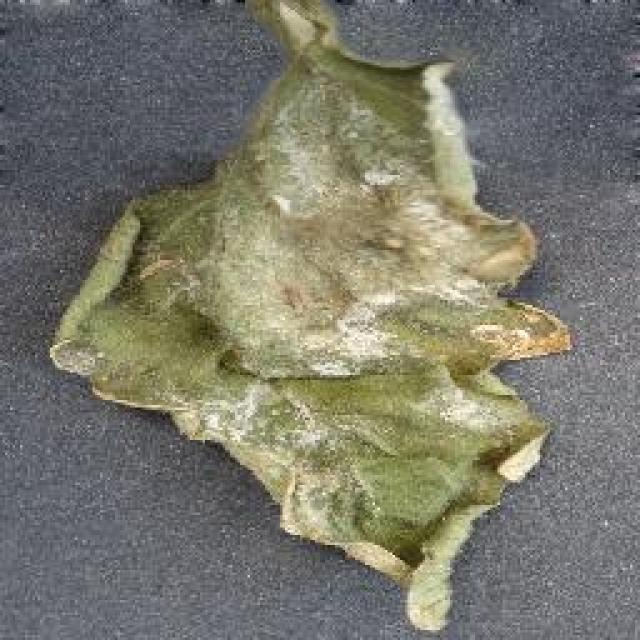Tomato Late Blight: (160, 25, 582, 598)
